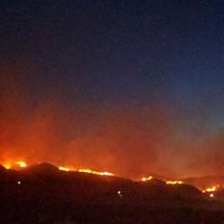fire: (4, 159, 71, 173), (166, 178, 222, 193), (77, 168, 119, 178)
